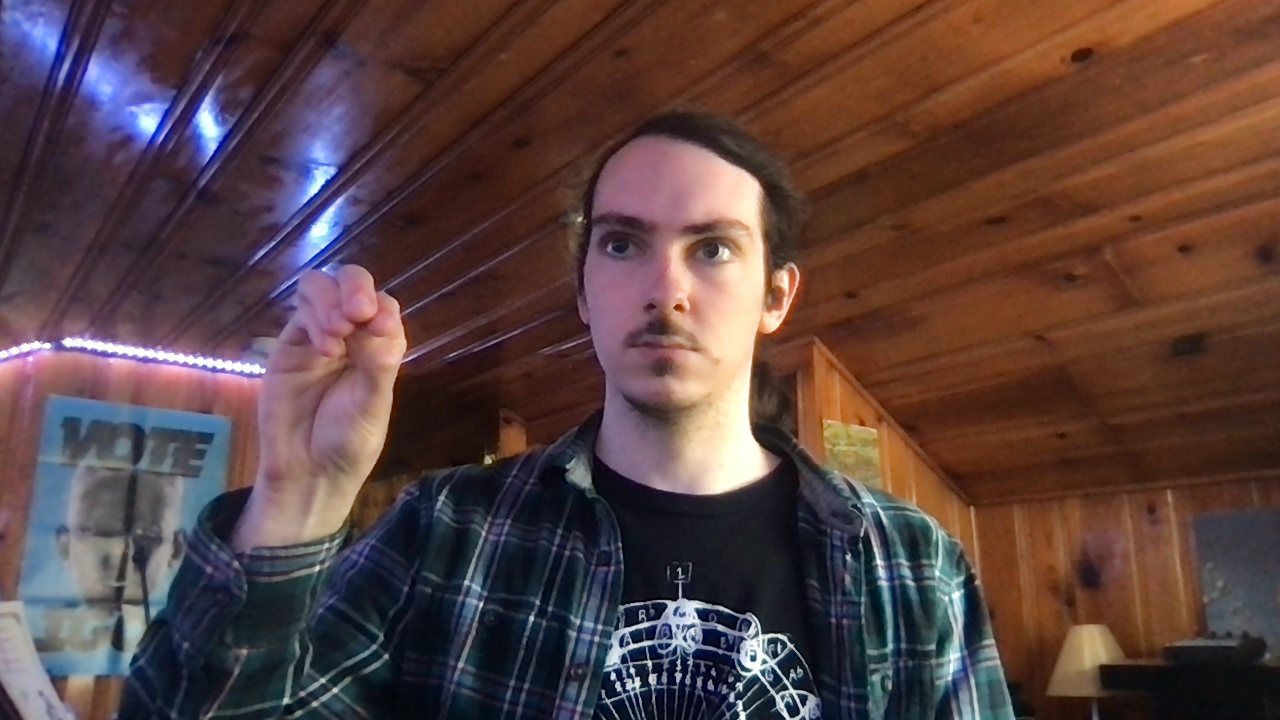m: (255, 264, 408, 484)
